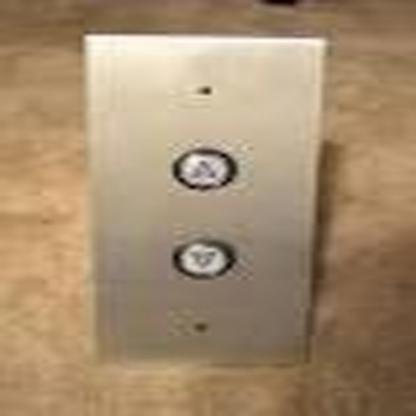down: (171, 240, 233, 279)
up: (172, 146, 236, 190)
